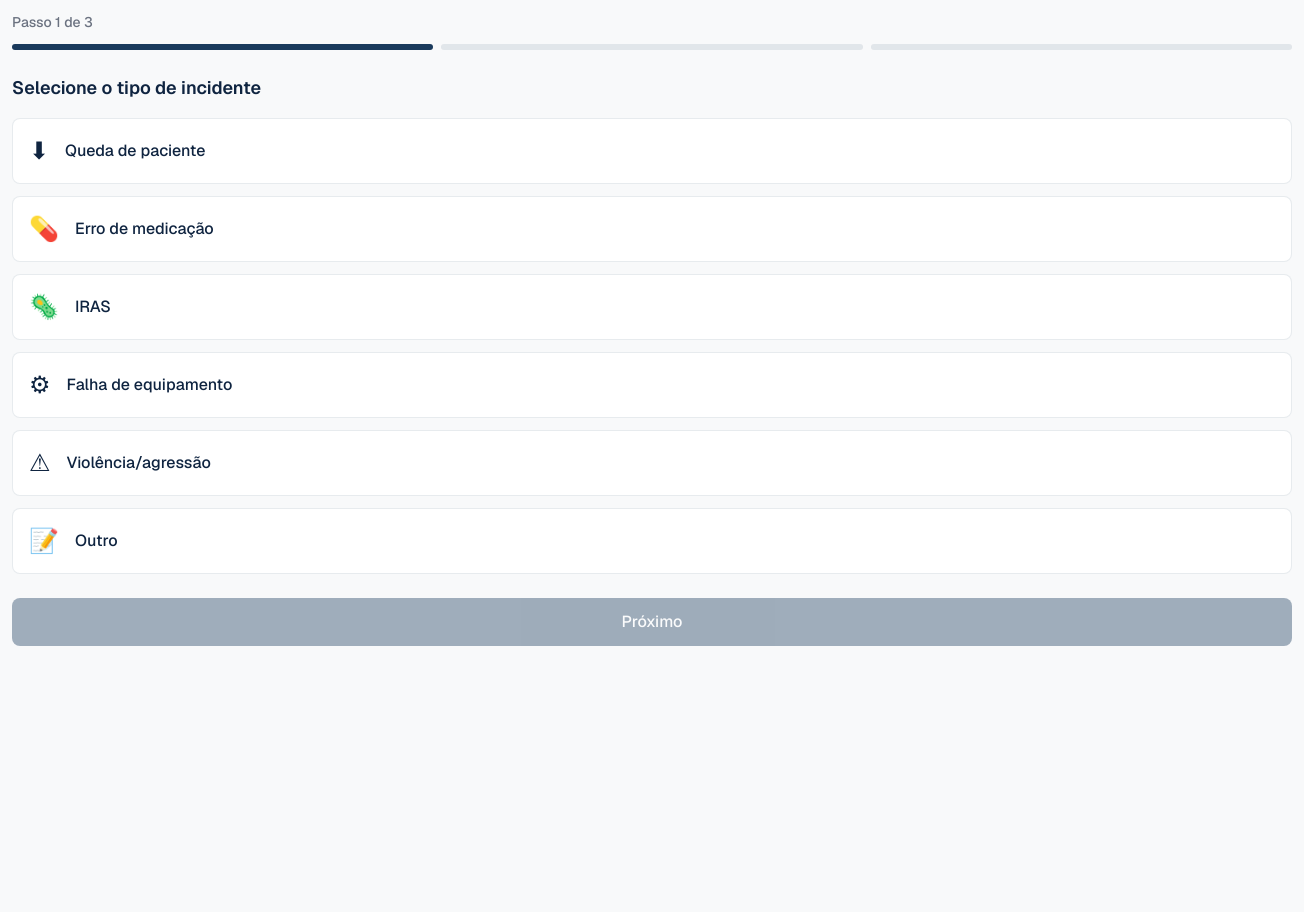
FormularioNotificacao › avanca para passo 3 apos preencher descricao
Click the text "Queda de paciente" at (135,151), box [65, 139, 205, 163]
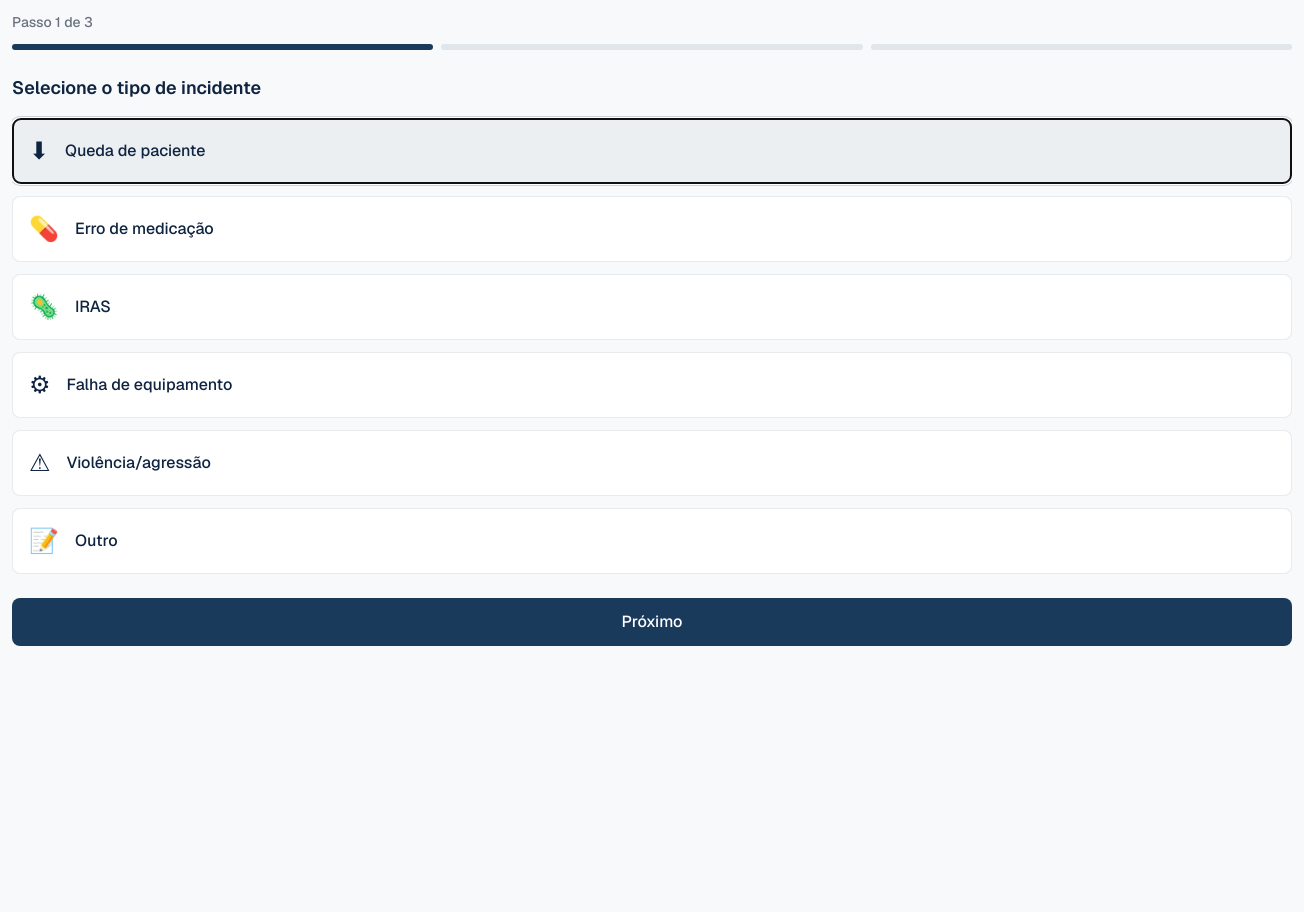
Click the button "Próximo" at (652,622), box [12, 598, 1292, 646]
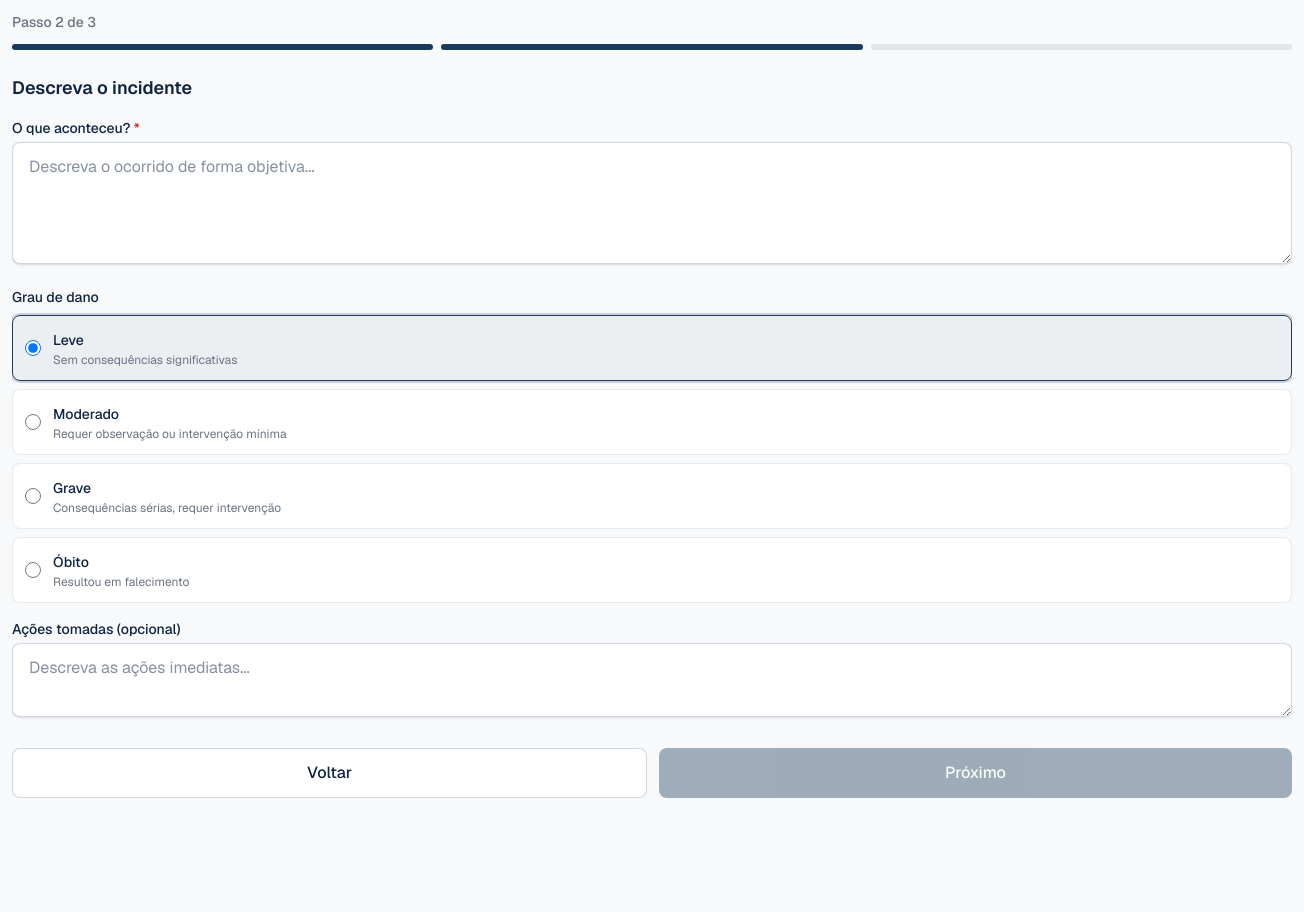
Type "Paciente sofreu queda no corredor" into the text box labelled "O que aconteceu? *" at (652,203), box [12, 142, 1292, 264]
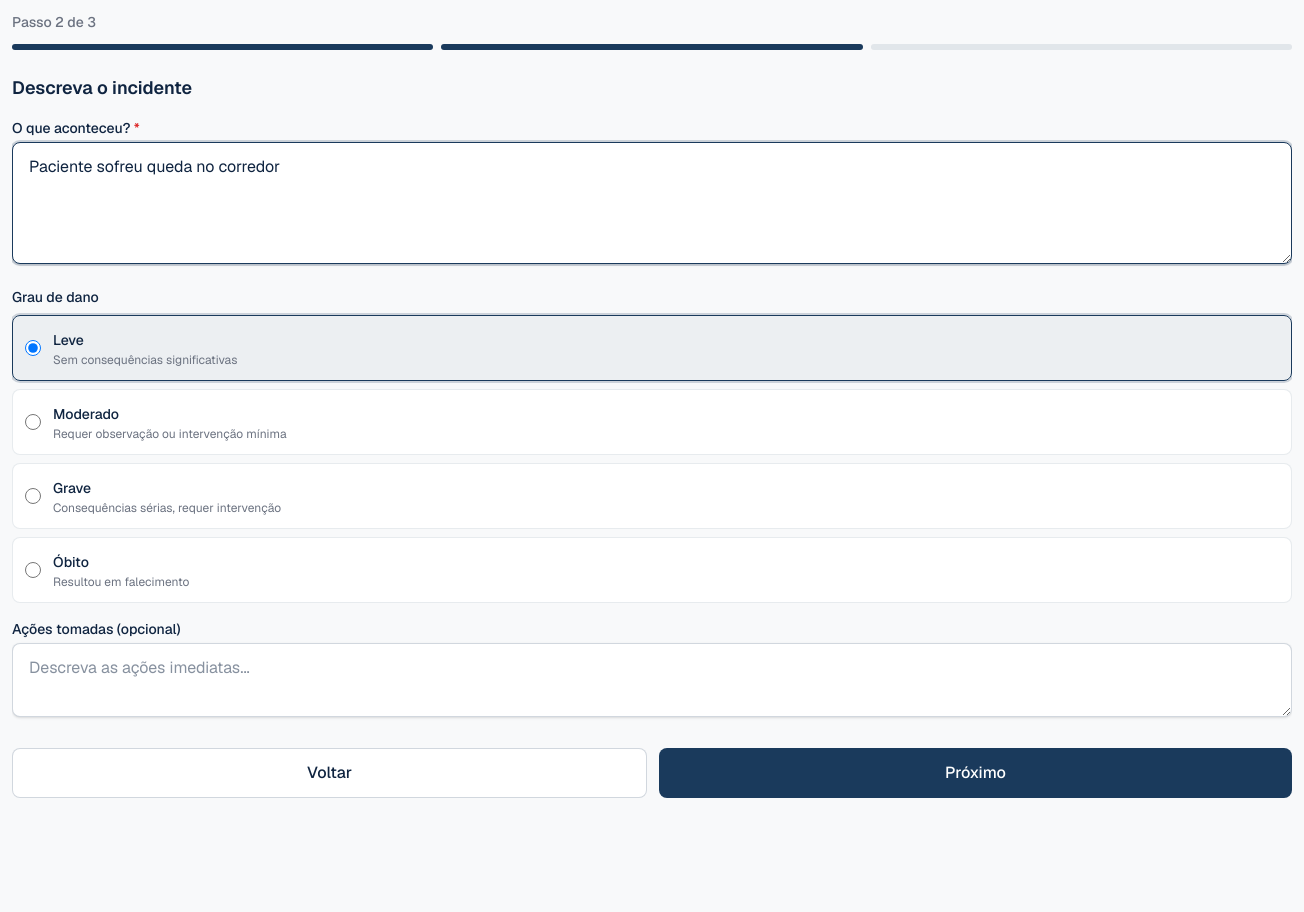
Click the button "Próximo" at (976,773), box [659, 748, 1292, 798]
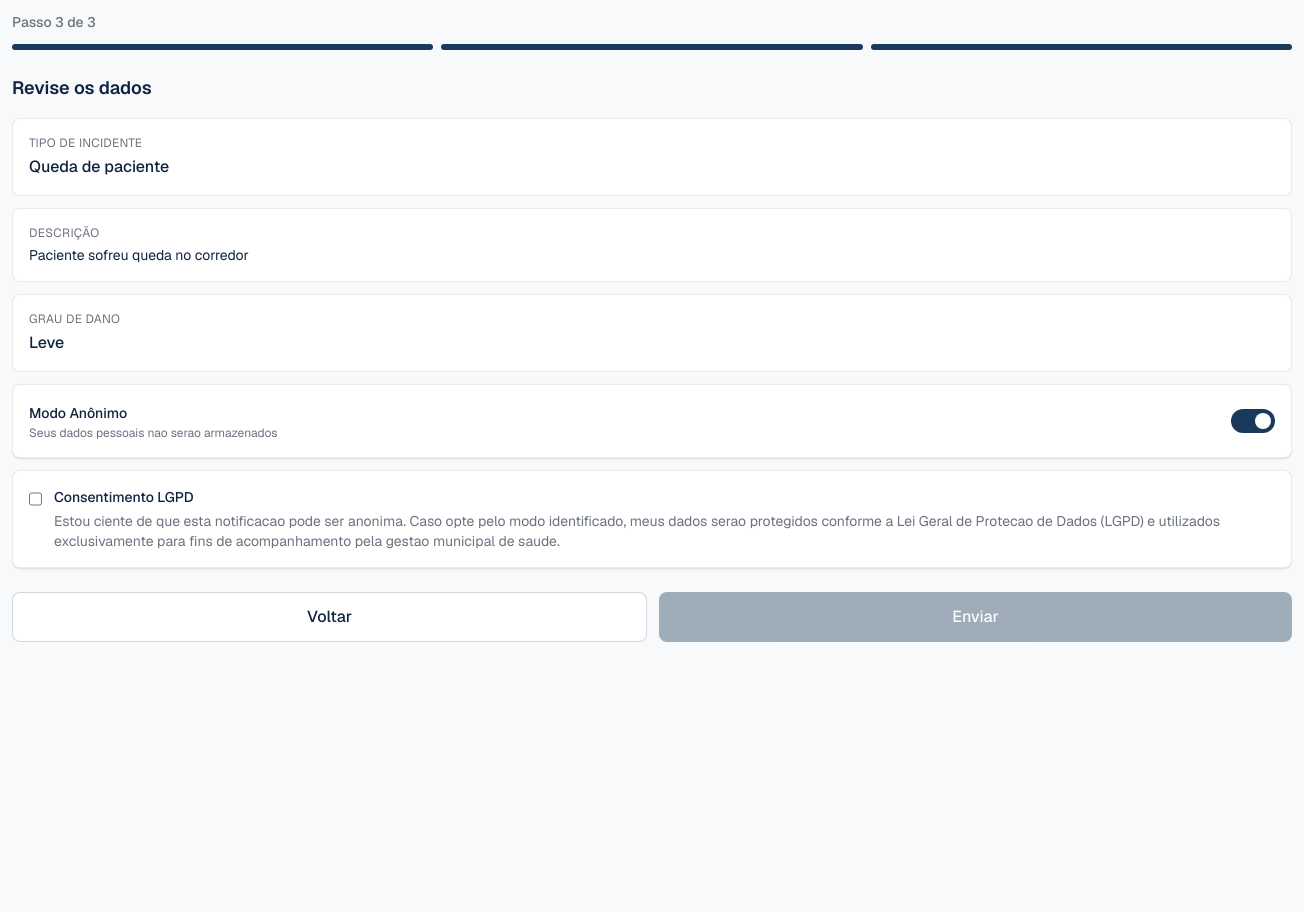
Check: the text "Passo 3 de 3" is shown, box [12, 13, 96, 31]
Check: the heading "Revise os dados" is shown, box [12, 76, 152, 99]
